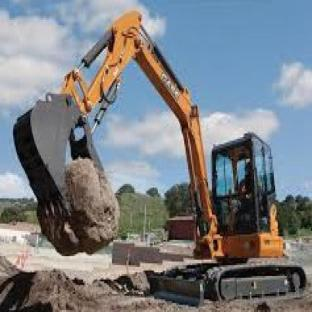ExcavationMachinery: (21, 18, 303, 292)
